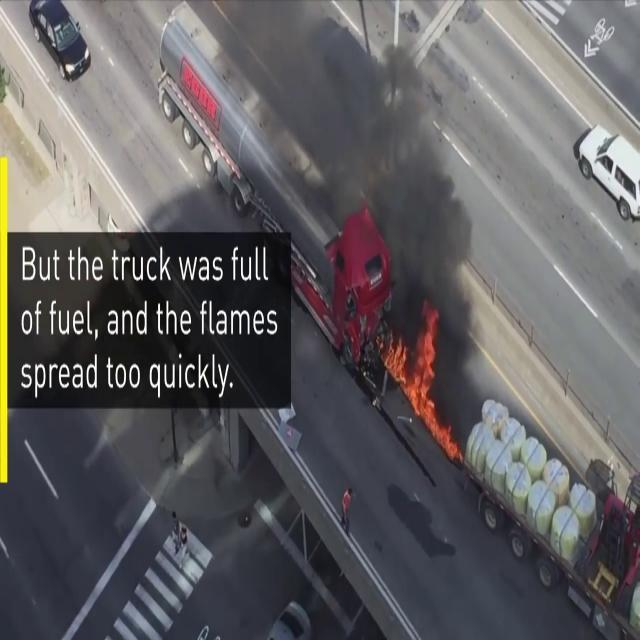Fire: (381, 303, 441, 429)
Smoke: (296, 0, 432, 261), (371, 162, 484, 362)
